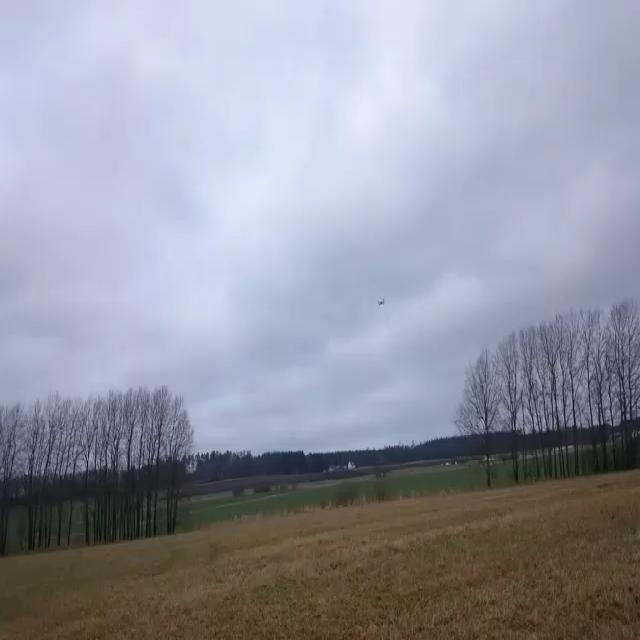Drone: (369, 284, 403, 322)
